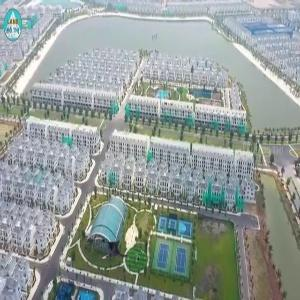drone: (93, 230, 133, 270)
